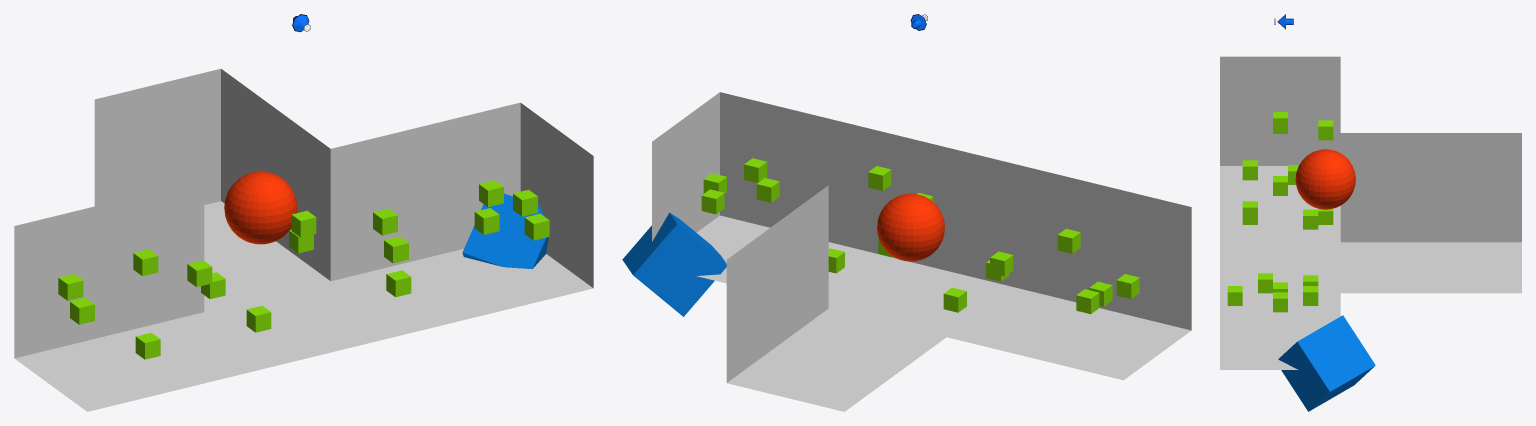
File: rays.gltf
3 views of the same model, side by side, from view 1: azimuth 30°, elevation 25°; view 2: azimuth 150°, elevation 25°; view 3: azimuth 270°, elevation 25° (orthographic). The views are drawn at different scales.
Parts seen in each view (by area): view 1: Cube, Sphere, Cube.022, Cube.009, Cube.012, Cube.016, Cube.021, Cube.018, Cube.008, Cube.010, Cube.011, Cube.017 (+5 smaller); view 2: Cube, Cube.022, Sphere; view 3: Cube, Cube.022, Sphere, Cube.010, Cube.012, Cube.014, Cube.015, Cube.019, Cube.021, Cube.018, Cube.020, Cube.011 (+1 smaller).
Part boxes in pixels (box(x1,y1,x2,y2)): Cube: box(14, 68, 593, 411); Sphere: box(224, 171, 297, 244); Cube.022: box(462, 193, 550, 268); Cube.009: box(246, 305, 271, 332); Cube.012: box(58, 274, 83, 300); Cube.016: box(291, 210, 316, 237); Cube.021: box(524, 213, 549, 240); Cube.018: box(474, 208, 499, 234); Cube.008: box(187, 260, 212, 287); Cube.010: box(135, 332, 160, 359); Cube.011: box(133, 249, 158, 276); Cube.017: box(386, 270, 411, 297); Cube: box(652, 92, 1191, 411); Cube.022: box(622, 212, 726, 316); Sphere: box(877, 193, 944, 261); Cube: box(1220, 56, 1521, 369); Cube.022: box(1278, 315, 1375, 411); Sphere: box(1295, 149, 1355, 209); Cube.010: box(1242, 160, 1257, 180); Cube.012: box(1318, 120, 1333, 140); Cube.014: box(1242, 201, 1257, 221); Cube.015: box(1303, 209, 1318, 229); Cube.019: box(1303, 286, 1318, 305); Cube.021: box(1227, 286, 1242, 305); Cube.018: box(1258, 273, 1272, 293); Cube.020: box(1273, 292, 1287, 312); Cube.011: box(1273, 112, 1287, 131).
Size of the model in its own units: 34.42 by 21.71 by 20.
